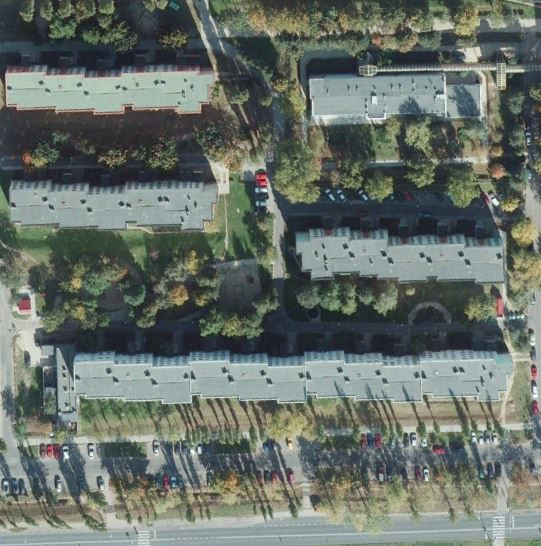block of flats: (50, 343, 520, 408), (291, 221, 513, 289), (1, 60, 224, 118), (6, 177, 220, 236), (304, 65, 490, 127)
